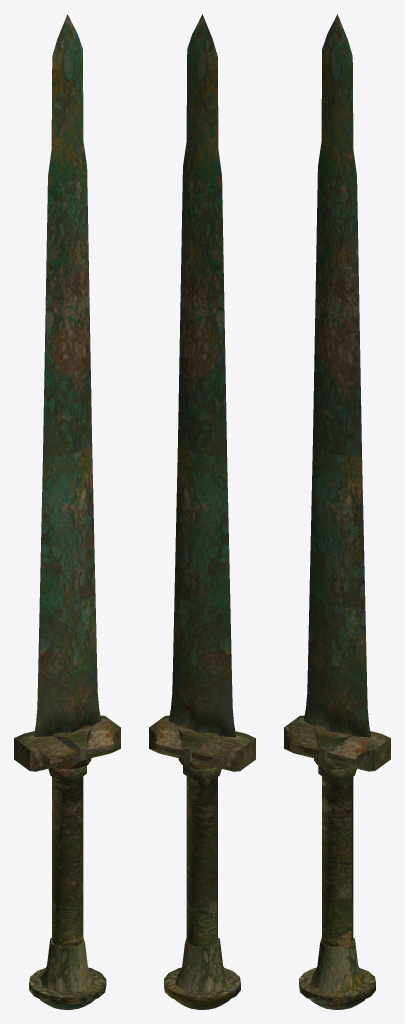
3 views of the same model, side by side, from view 1: azimuth 30°, elevation 25°; view 2: azimuth 150°, elevation 25°; view 3: azimuth 330°, elevation 25° (orthographic).
Parts seen in each view (by area): view 1: Ob3p1, Ob3p2, Ob3p3; view 2: Ob3p1, Ob3p2, Ob3p3; view 3: Ob3p1, Ob3p2, Ob3p3.
Boxes of the visible parts, bbox=[...] form: Ob3p1: bbox=[34, 14, 101, 1009]; Ob3p2: bbox=[29, 765, 106, 1005]; Ob3p3: bbox=[14, 715, 120, 771]; Ob3p1: bbox=[168, 14, 236, 737]; Ob3p2: bbox=[164, 765, 240, 1009]; Ob3p3: bbox=[149, 715, 255, 771]; Ob3p1: bbox=[303, 14, 370, 1009]; Ob3p2: bbox=[299, 765, 375, 1007]; Ob3p3: bbox=[284, 715, 390, 771].
Bounding box in the file's own units: 0.3923 × 4.09 × 0.2902.
2 materials, 2 textured.
